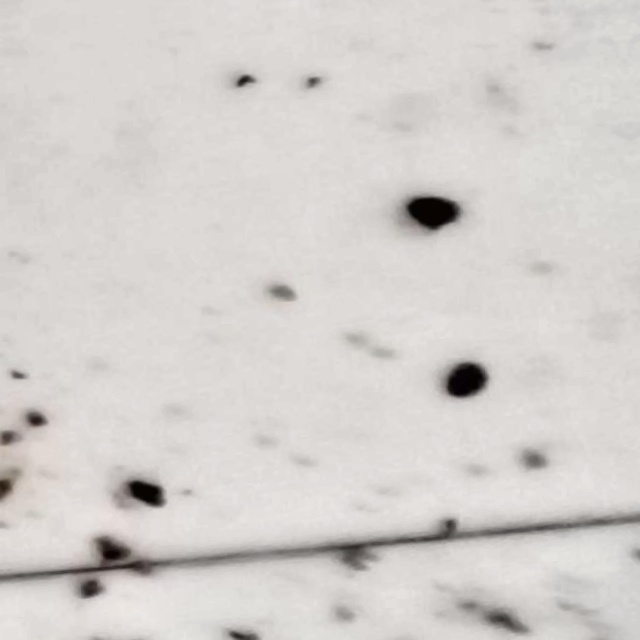varroa: (403, 192, 460, 235), (443, 361, 494, 401)
